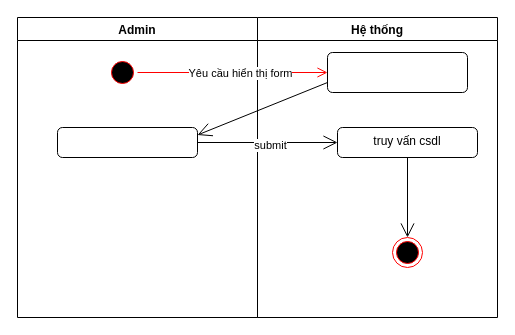
The diagram is 515 pixels wide and 335 high, and some of its shapes have lost their labels. The shapes that lost their labels are listed below. From the top down, each one's centre as x and y in pixels, then its label:
At pixel 397 72: "Hiển thị form tìm kiếm".
At pixel 127 142: "Nhập tên chương".
